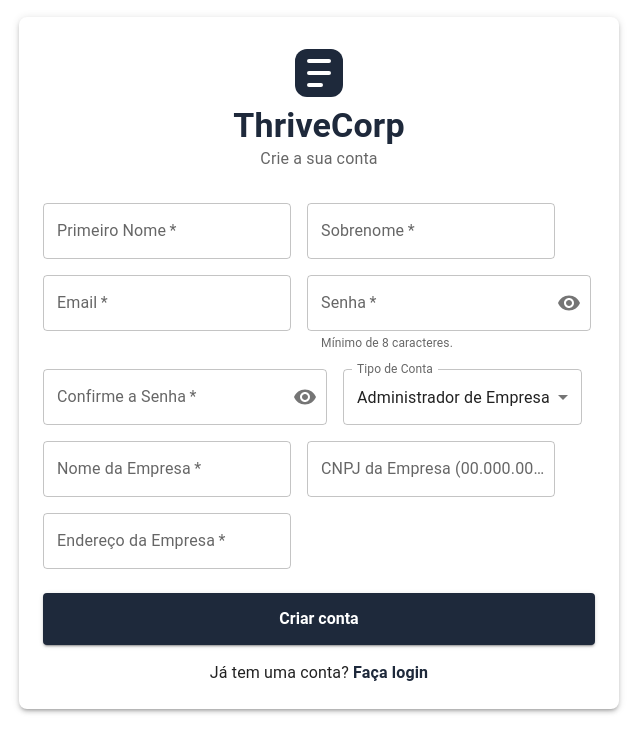
Scenario: RegisterPage Component › deve aplicar a máscara de CNPJ corretamente (> 11 dígitos)
The image size is (639, 731).
Type "12345678000199" into the field labelled "CNPJ da Empresa (00.000.000/0000-00) *" at x=431, y=469, box x1=307 y1=441 x2=555 y2=497
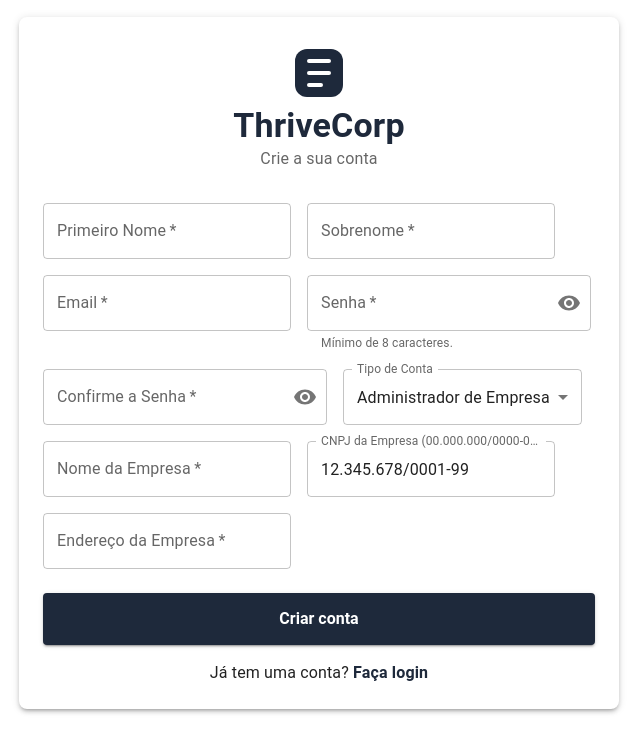
Expected: the field labelled "CNPJ da Empresa (00.000.000/0000-00) *" holds "12.345.678/0001-99", x1=307 y1=441 x2=555 y2=497
